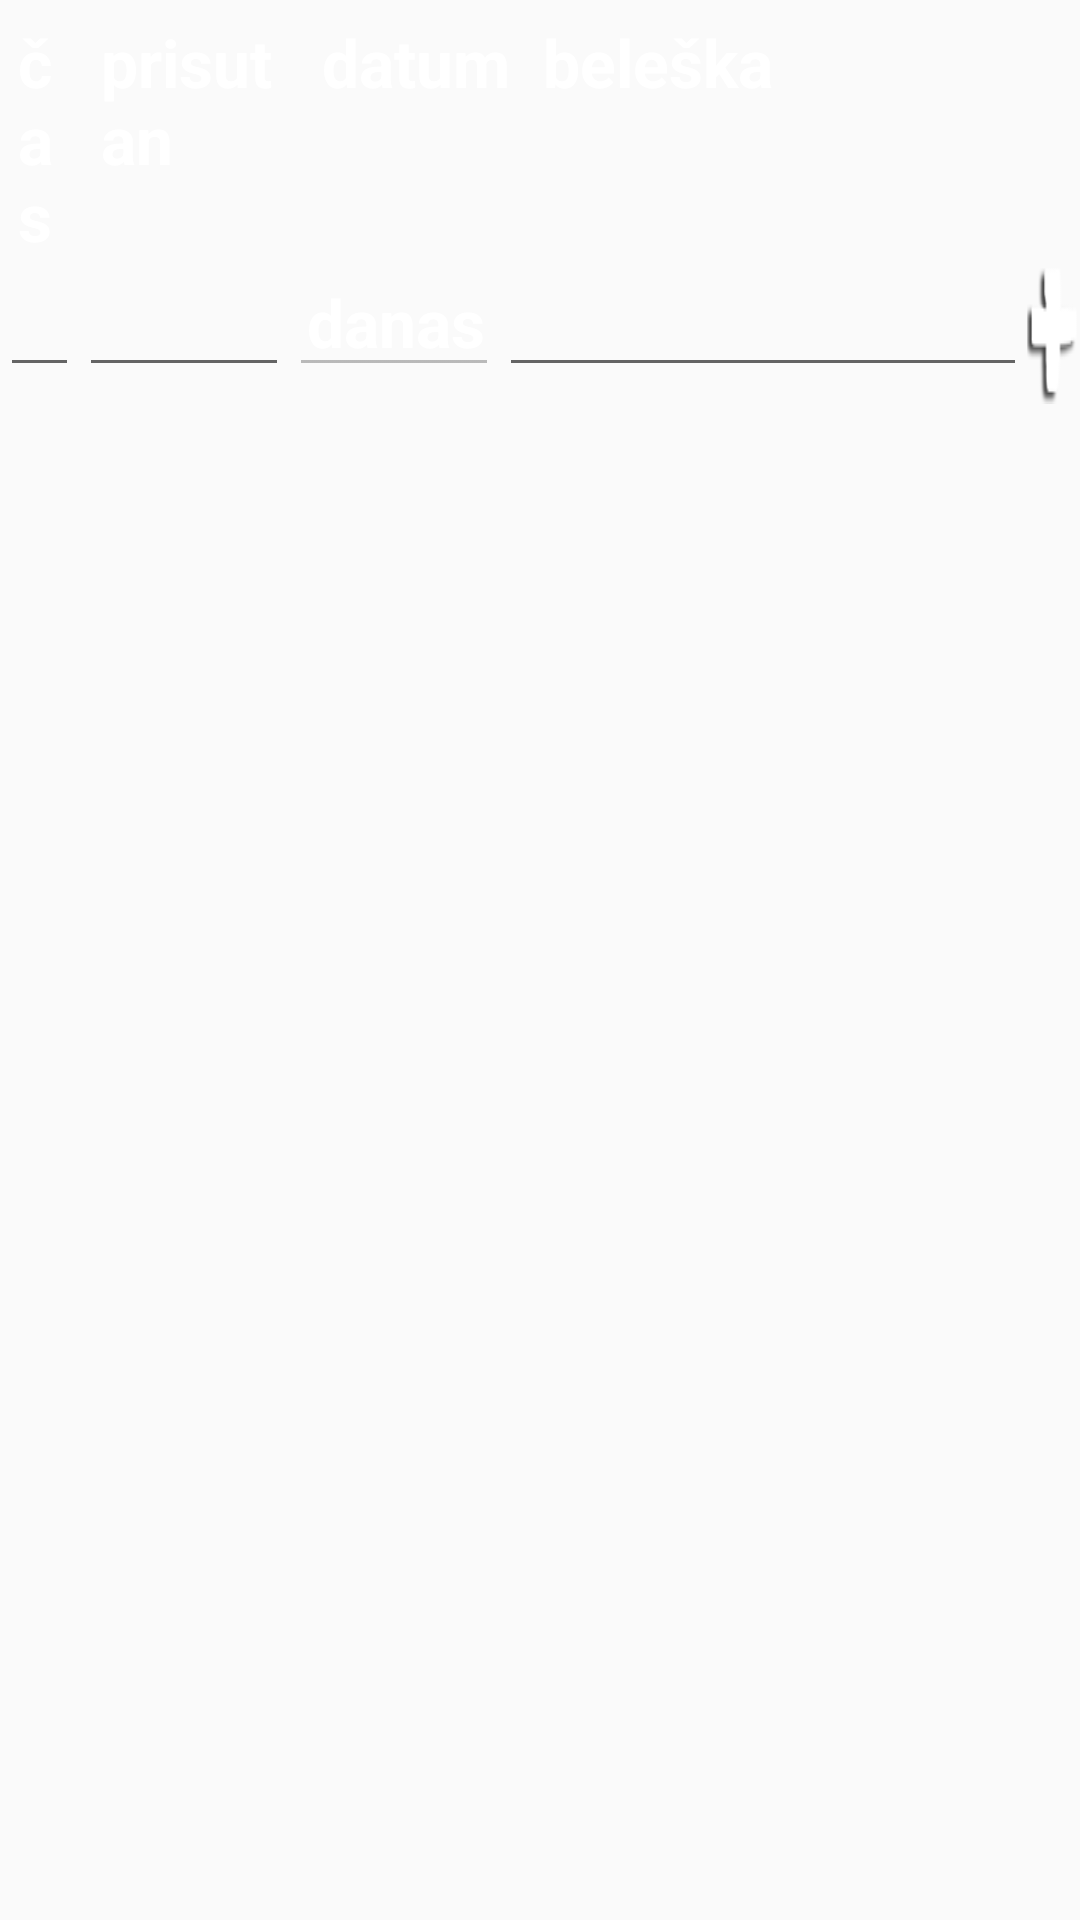

Point at icon controls on the screen. Image size 1080px×1920px, points as (x,y).
plus: (1050,336)
